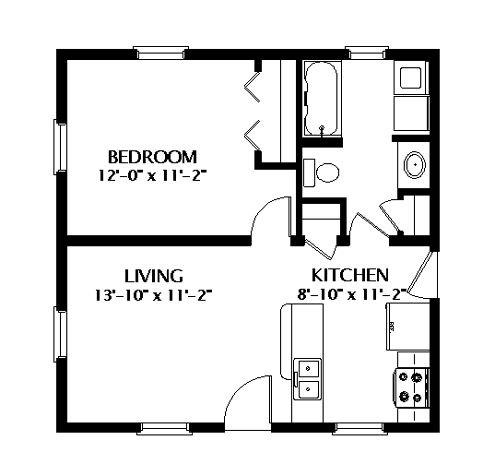door: (218, 362, 280, 433), (241, 185, 301, 248), (239, 67, 270, 155), (402, 245, 444, 305), (344, 201, 395, 248), (300, 228, 346, 267), (376, 190, 407, 246)
room: (58, 237, 437, 429), (57, 50, 251, 239), (300, 49, 440, 250), (252, 47, 300, 170), (253, 161, 302, 249)
window: (127, 31, 194, 71), (133, 403, 196, 445), (43, 115, 77, 178), (328, 412, 389, 446), (344, 31, 391, 69), (47, 300, 74, 364)
